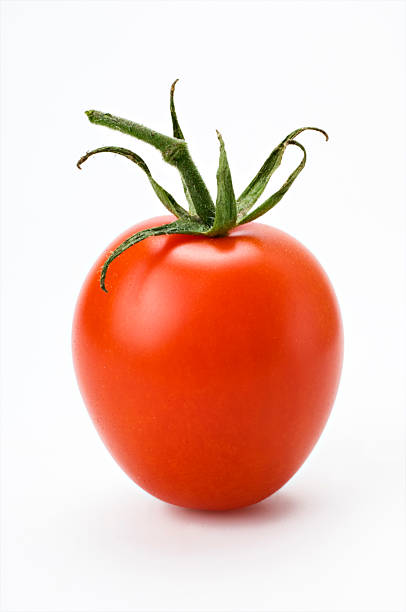tomato: (68, 213, 356, 515)
